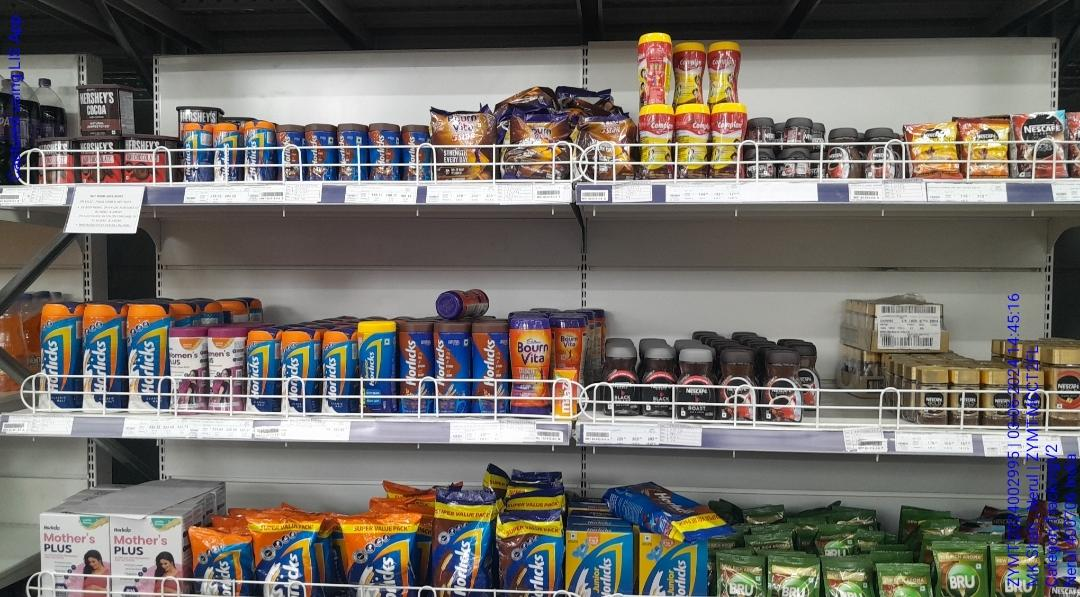BOURN_VITA_500_G_JAR: (510, 321, 551, 418)
BOURN_VITA_FIVE_STAR_MAGIC_500_G_POUCH: (507, 108, 570, 180), (434, 109, 495, 181)
COMPLAN_CHOCOLATE_200_GMS_JAR: (675, 103, 710, 180), (638, 105, 672, 180), (712, 105, 745, 179), (709, 40, 738, 104), (674, 43, 703, 103)
HORLICK_CHOCOLATE_200_G_JAR: (305, 124, 337, 182), (369, 122, 400, 181), (338, 122, 369, 181), (405, 124, 431, 183), (277, 124, 302, 180)
HORLICK_CHOCOLATE_500_G_JAR: (436, 319, 468, 415), (472, 323, 505, 413), (401, 325, 432, 414)
HORLICK_CHOCOLATE_750_G_POUCH: (499, 516, 562, 597), (436, 502, 489, 597)
HORLICK_CLASSIC_MALT_200_G_JAR: (244, 122, 276, 181), (185, 124, 210, 182), (215, 124, 239, 181)
HORLICK_CLASSIC_MALT_500_G_JAR: (282, 331, 318, 414), (321, 331, 353, 413), (247, 331, 278, 412)
HORLICK_CLASSIC_MALT_750_G_POUCH: (346, 513, 410, 597), (255, 517, 317, 597)
